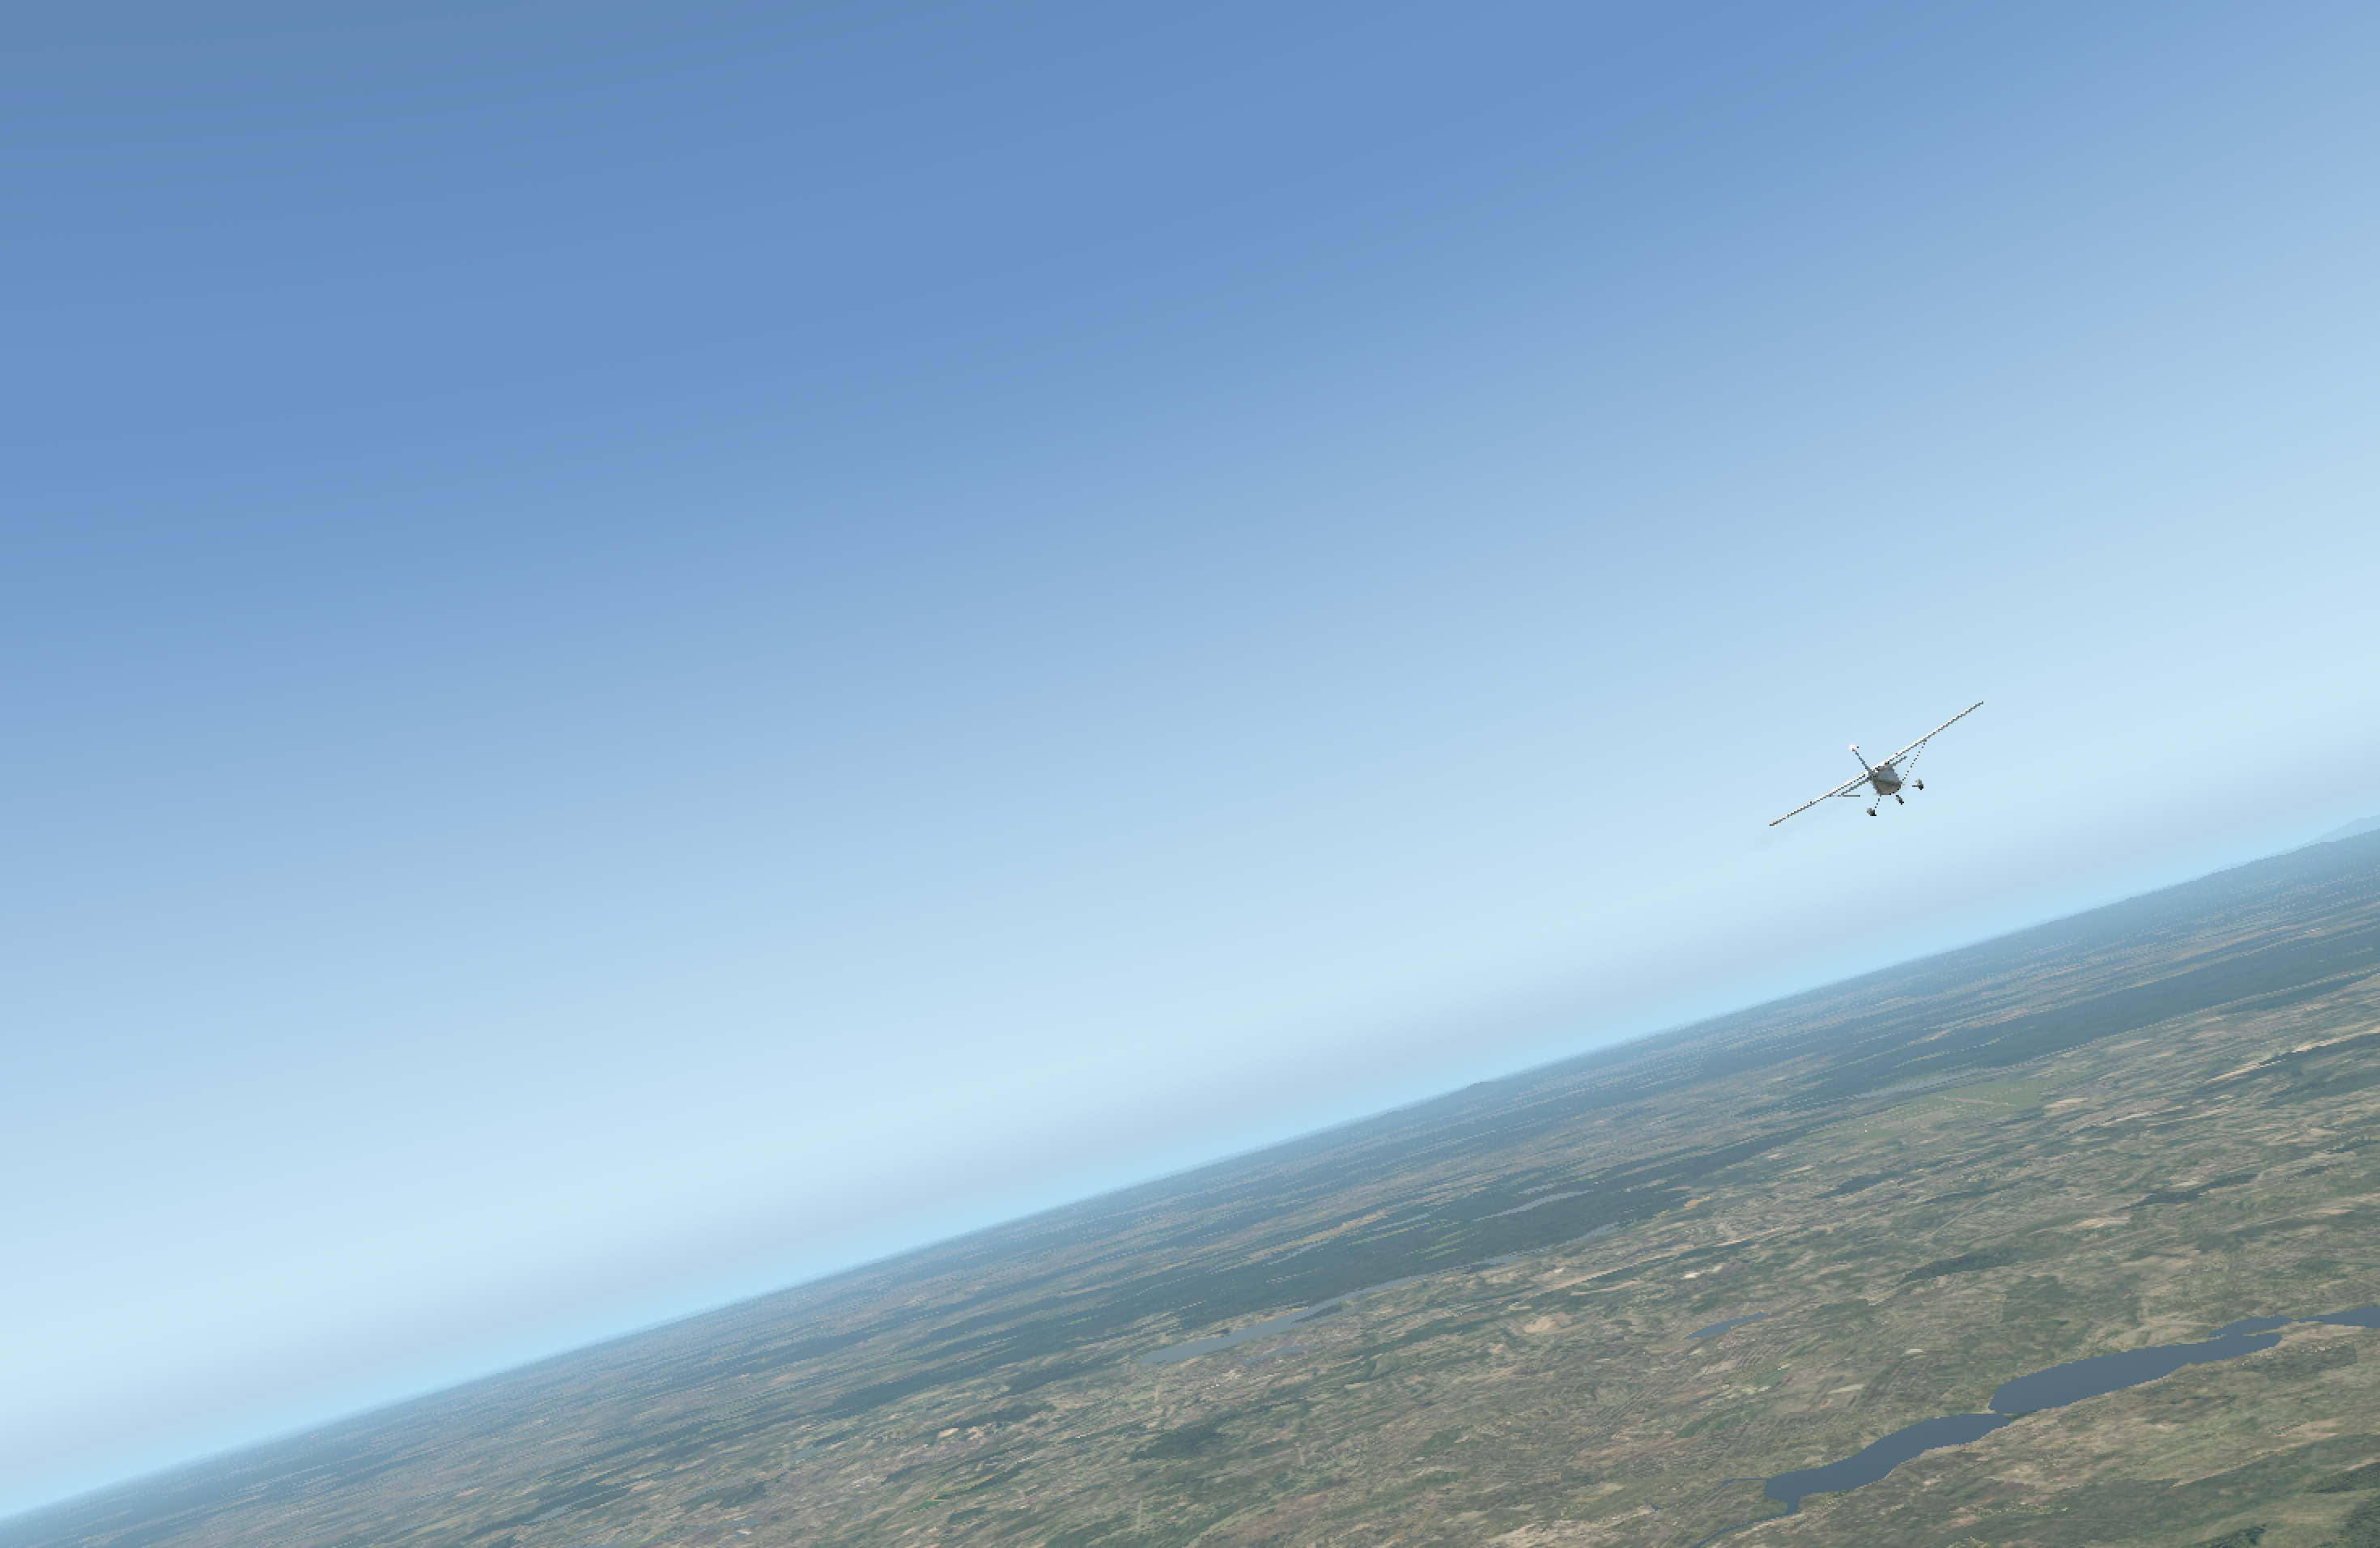aircraft: (1802, 748, 1964, 807)
